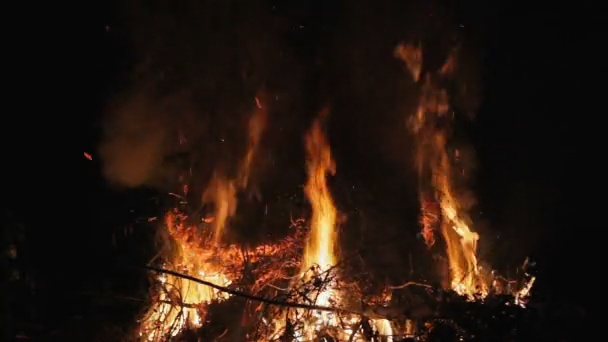fire: (285, 121, 338, 338), (138, 244, 229, 332), (404, 48, 451, 179), (424, 189, 478, 295), (205, 167, 233, 237)
